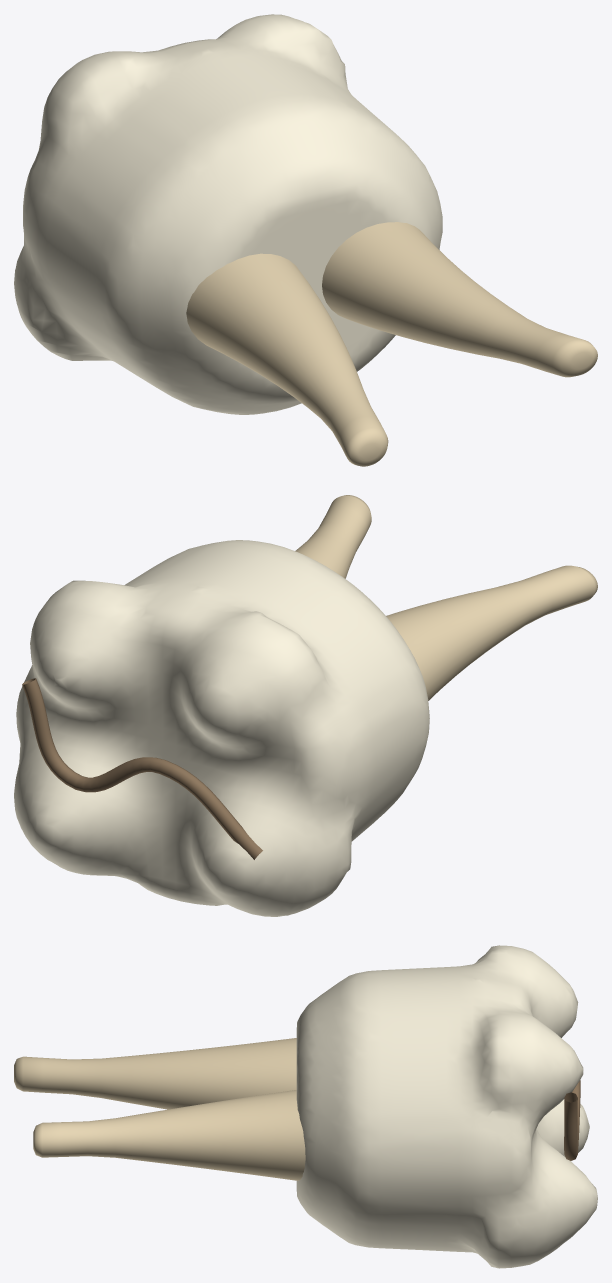
File: configurable-extra.glb
3 renders of one model, top to bottom at view 1: azimuth 30°, elevation 25°; view 2: azimuth 150°, elevation 25°; view 3: azimuth 270°, elevation 25°, orthographic. The views are drawn at different scales.
Visible parts, largest first — view 1: Crown_Anatomical.008, Root_2.002, Root_1.006; view 2: Crown_Anatomical.008, Root_1.006, Irregular_Groove.001, Root_2.002; view 3: Crown_Anatomical.008, Root_2.002, Root_1.006, Irregular_Groove.001.
Part boxes in pixels (<box>): Crown_Anatomical.008: <box>14,14,442,414</box>; Root_2.002: <box>322,222,597,377</box>; Root_1.006: <box>186,253,388,466</box>; Crown_Anatomical.008: <box>14,540,429,916</box>; Root_1.006: <box>386,565,597,700</box>; Irregular_Groove.001: <box>22,678,262,859</box>; Root_2.002: <box>295,495,371,578</box>; Crown_Anatomical.008: <box>296,945,597,1268</box>; Root_2.002: <box>33,1090,305,1180</box>; Root_1.006: <box>14,1038,296,1109</box>; Irregular_Groove.001: <box>564,1080,580,1160</box>.
Bounding box in the file's own units: 0.8869 × 0.771 × 1.57.
